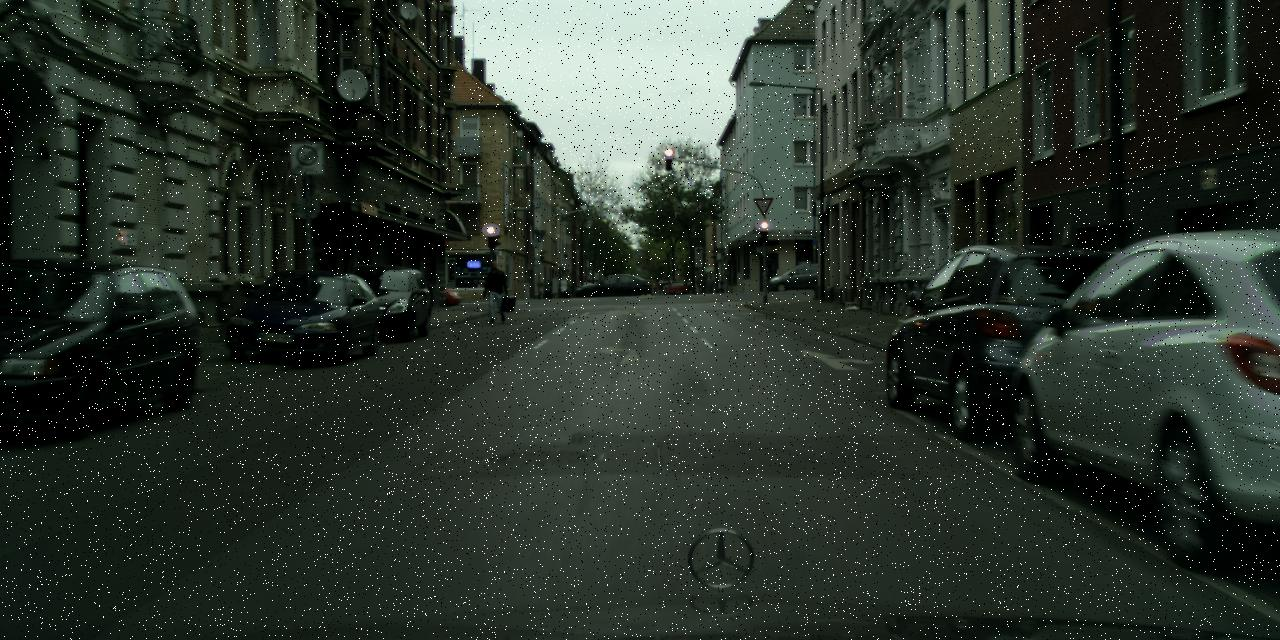ped: (482, 259, 507, 323)
